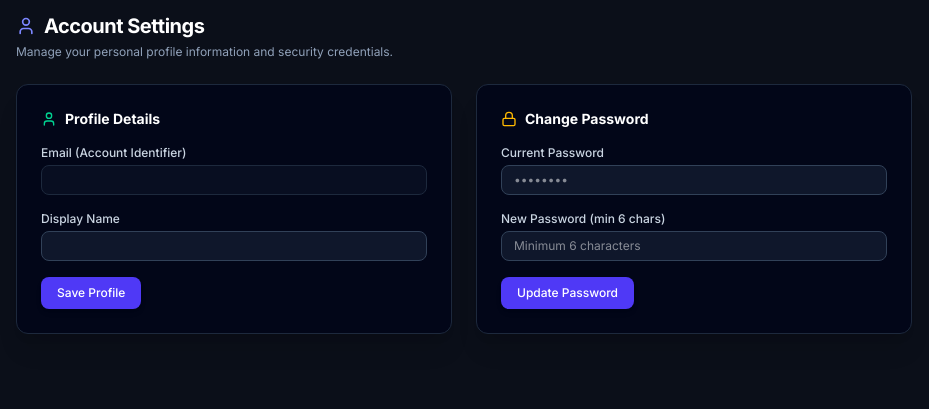
Test case: Customer Profile Settings Suite › submits password change form and displays success state
The image size is (929, 409).
Expected: the text "Change Password" is shown, [525,109,649,129]
# Fill password fields
Type "OldPassword123!" into the password field with placeholder "••••••••" at point(694, 180), box [501,165,887,195]
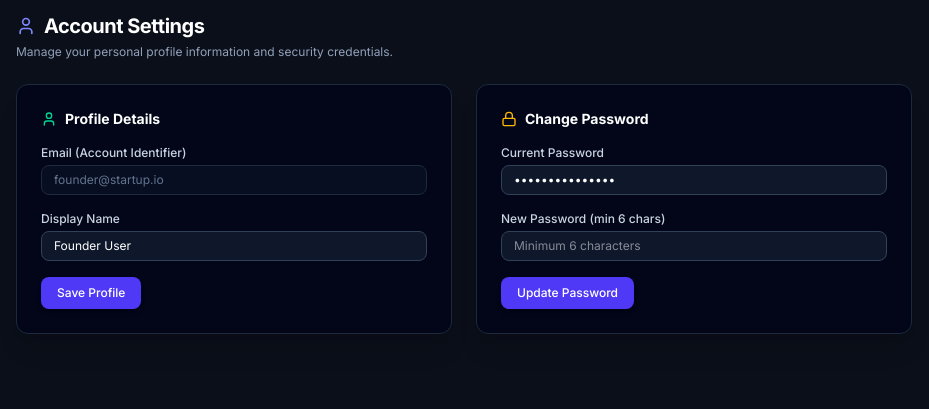
Type "NewSecurePassword123!" into the password field with placeholder "Minimum 6 characters" at point(694, 246), box [501,231,887,261]
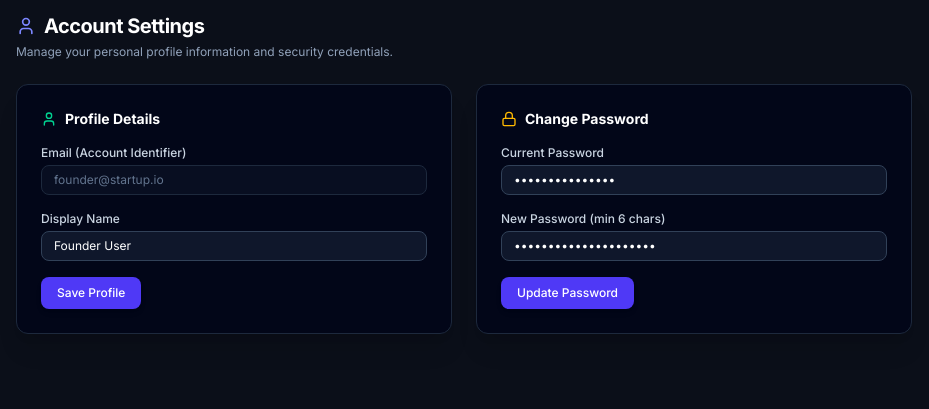
Click the button "Update Password" at point(568, 293), box [501,277,634,309]
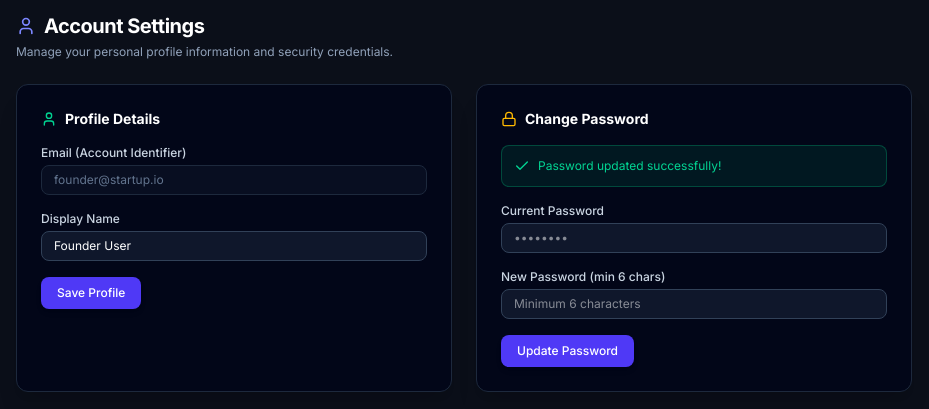
Expected: the text "Password updated successfully!" is shown, [538,158,721,174]
